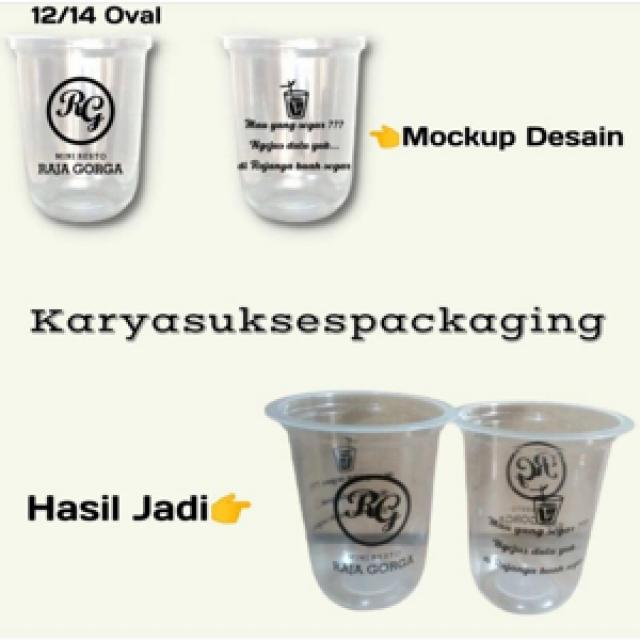plastic cup: (260, 384, 452, 619), (456, 397, 638, 625), (2, 28, 167, 234), (213, 26, 378, 230)
